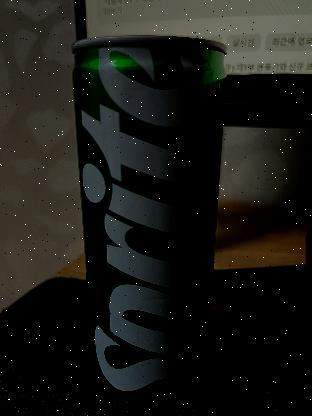Can: (71, 36, 229, 407)
